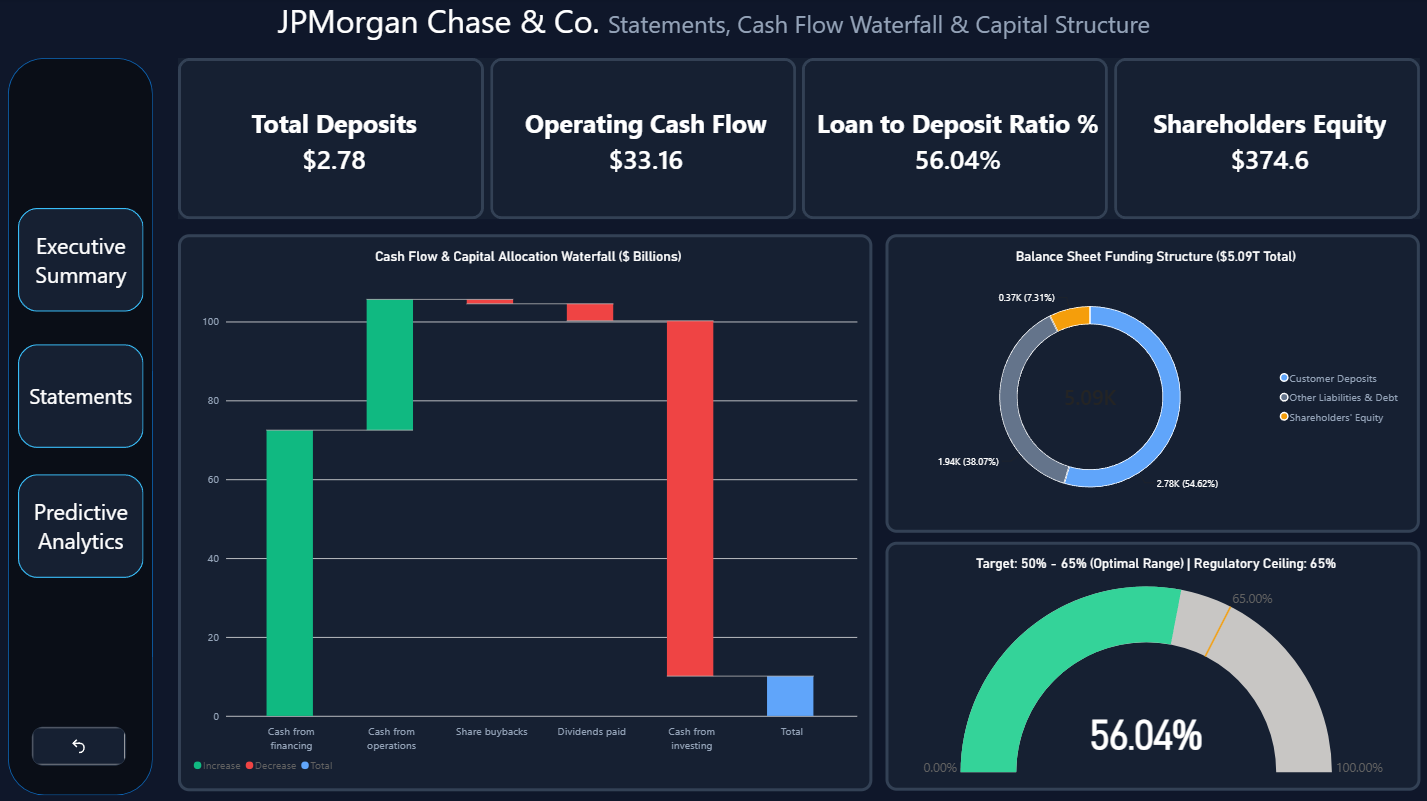

This screenshot's page, from the dashboard's own definition file:
{"tool":"powerbi","page":{"name":"Statements, Cash Flow Waterfall & Capital Structure","canvas":[1920,1080],"ordinal":1},"visuals":[{"type":"shape","box":[14,80,194,988],"z":0},{"type":"waterfallChart","title":"Cash Flow & Capital Allocation Waterfall ($ Billions)","fields":{"Category":["jpm_financials_tidy_long.Metric"],"Y":["_JPM_Measures.Cash Flow Value"]},"box":[242,316,930,746],"z":1000},{"type":"cardVisual","fields":{"Data":["_JPM_Measures.Total Deposits","_JPM_Measures.Operating Cash Flow","_JPM_Measures.Loan to Deposit Ratio %","_JPM_Measures.Shareholders Equity"]},"box":[242,80,1664,216],"z":2000},{"type":"donutChart","title":"Balance Sheet Funding Structure ($5.09T Total)","fields":{"Category":["Capital_Structure.Component"],"Y":["Sum(Capital_Structure.Amount_Billion)"]},"box":[1190,316,716,400],"z":3000},{"type":"gauge","title":"Target: 50% - 65% (Optimal Range) | Regulatory Ceiling: 65%","fields":{"Y":["_JPM_Measures.Loan to Deposit Ratio %"]},"box":[1189.2,728.6,716.9,333.3],"z":4000},{"type":"actionButton","box":[26,282,168.3,138.9],"z":5000},{"type":"actionButton","box":[26.7,464.8,168.3,138.9],"z":6000},{"type":"actionButton","box":[26.7,638.4,168.3,138.9],"z":7000},{"type":"actionButton","box":[46,976,126,52],"z":8000},{"type":"textbox","box":[14,0,1892,80],"z":9000}]}

Visuals, with their boxes in screenshot pixels (x1, y1, x2, y2), scaled from the page's 1920x1080 canvas onto the 1427x801 screenshot:
shape: {"x1": 10, "y1": 59, "x2": 155, "y2": 792}
"Cash Flow & Capital Allocation Waterfall ($ Billions)" waterfallChart: {"x1": 180, "y1": 234, "x2": 871, "y2": 788}
cardVisual - _JPM_Measures.Total Deposits x _JPM_Measures.Operating Cash Flow: {"x1": 180, "y1": 59, "x2": 1417, "y2": 220}
"Balance Sheet Funding Structure ($5.09T Total)" donutChart: {"x1": 884, "y1": 234, "x2": 1417, "y2": 531}
"Target: 50% - 65% (Optimal Range) | Regulatory Ceiling: 65%" gauge: {"x1": 884, "y1": 540, "x2": 1417, "y2": 788}
actionButton: {"x1": 19, "y1": 209, "x2": 144, "y2": 312}
actionButton: {"x1": 20, "y1": 345, "x2": 145, "y2": 448}
actionButton: {"x1": 20, "y1": 473, "x2": 145, "y2": 576}
actionButton: {"x1": 34, "y1": 724, "x2": 128, "y2": 762}
textbox: {"x1": 10, "y1": 0, "x2": 1417, "y2": 59}
